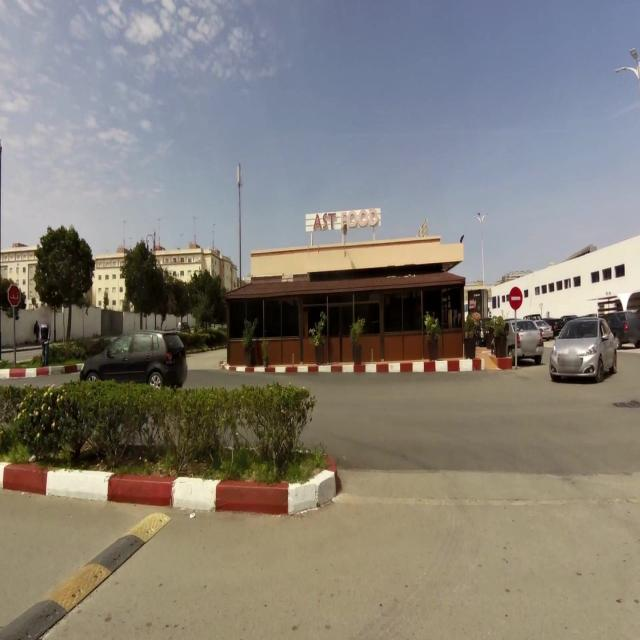car: (78, 329, 188, 387), (549, 314, 618, 383), (505, 317, 544, 366), (532, 316, 554, 341)
